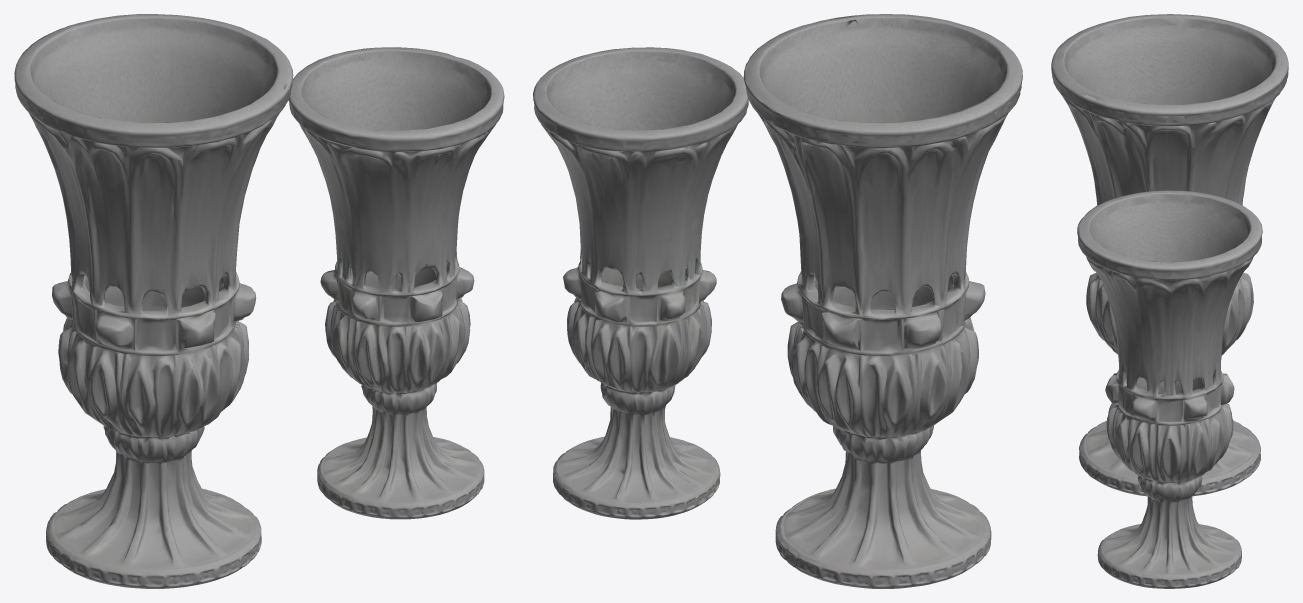
File: decor-goblet-crystal.glb
3 views of the same model, side by side, from view 1: azimuth 30°, elevation 25°; view 2: azimuth 150°, elevation 25°; view 3: azimuth 270°, elevation 25° (orthographic). The views are drawn at different scales.
Visible parts, largest first — view 1: tripo_node_2c1d349c-2aec-44ae-bc7d-ae53727d2f51; view 2: tripo_node_2c1d349c-2aec-44ae-bc7d-ae53727d2f51; view 3: tripo_node_2c1d349c-2aec-44ae-bc7d-ae53727d2f51.
Boxes of the visible parts, x1,y1,x2,y2 form: tripo_node_2c1d349c-2aec-44ae-bc7d-ae53727d2f51: (14, 14, 504, 588); tripo_node_2c1d349c-2aec-44ae-bc7d-ae53727d2f51: (533, 14, 1022, 588); tripo_node_2c1d349c-2aec-44ae-bc7d-ae53727d2f51: (1051, 14, 1288, 588).
Size of the model in its own units: 0.3497 by 0.35 by 0.1873.
1 material, 1 textured.
